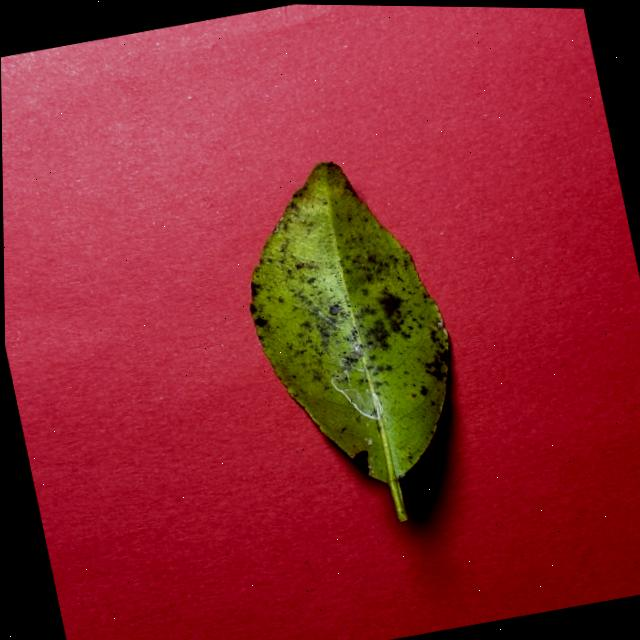sooty_mold: (249, 162, 448, 520)
